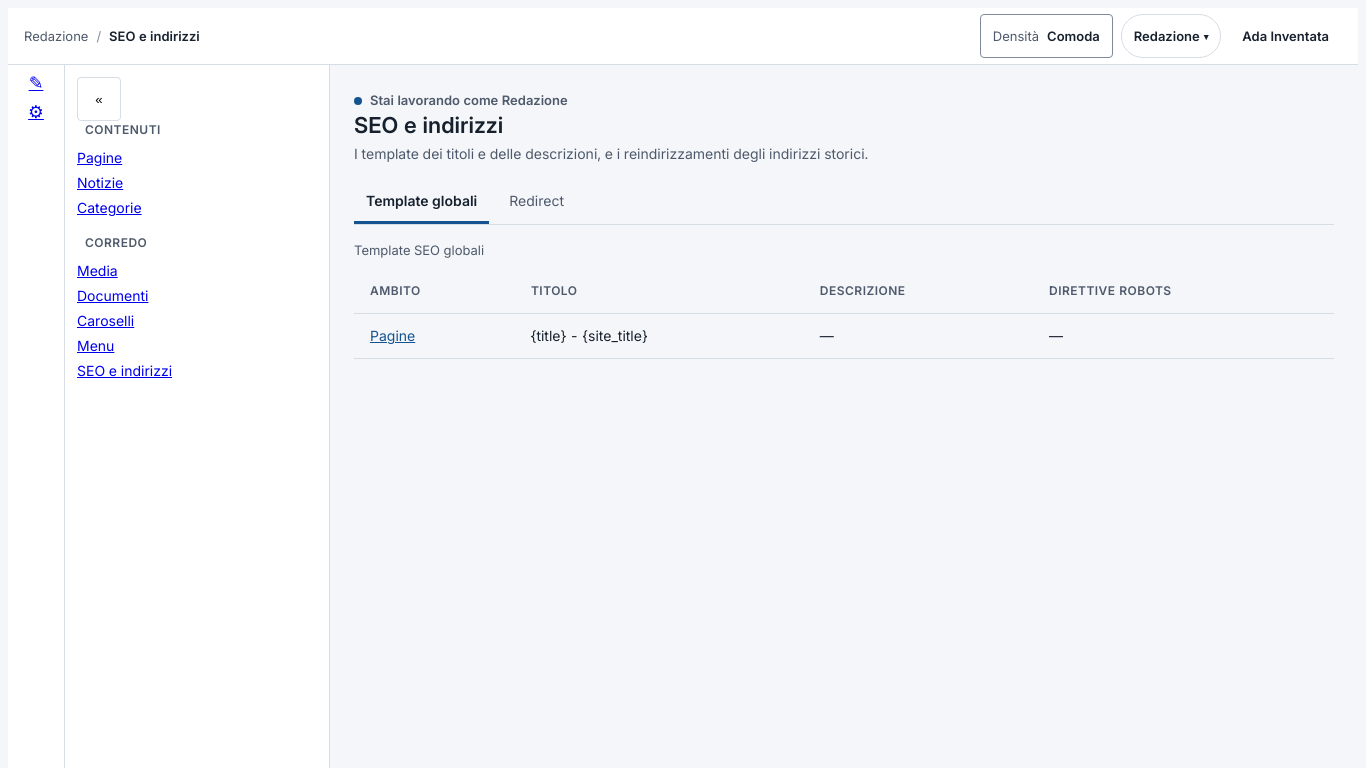
Test case: W8-17: SEO e indirizzi › «Salva il template»: «Modifiche salvate.»
Click the button "Pagine". click: (393, 336)
box: [370,325,415,346]
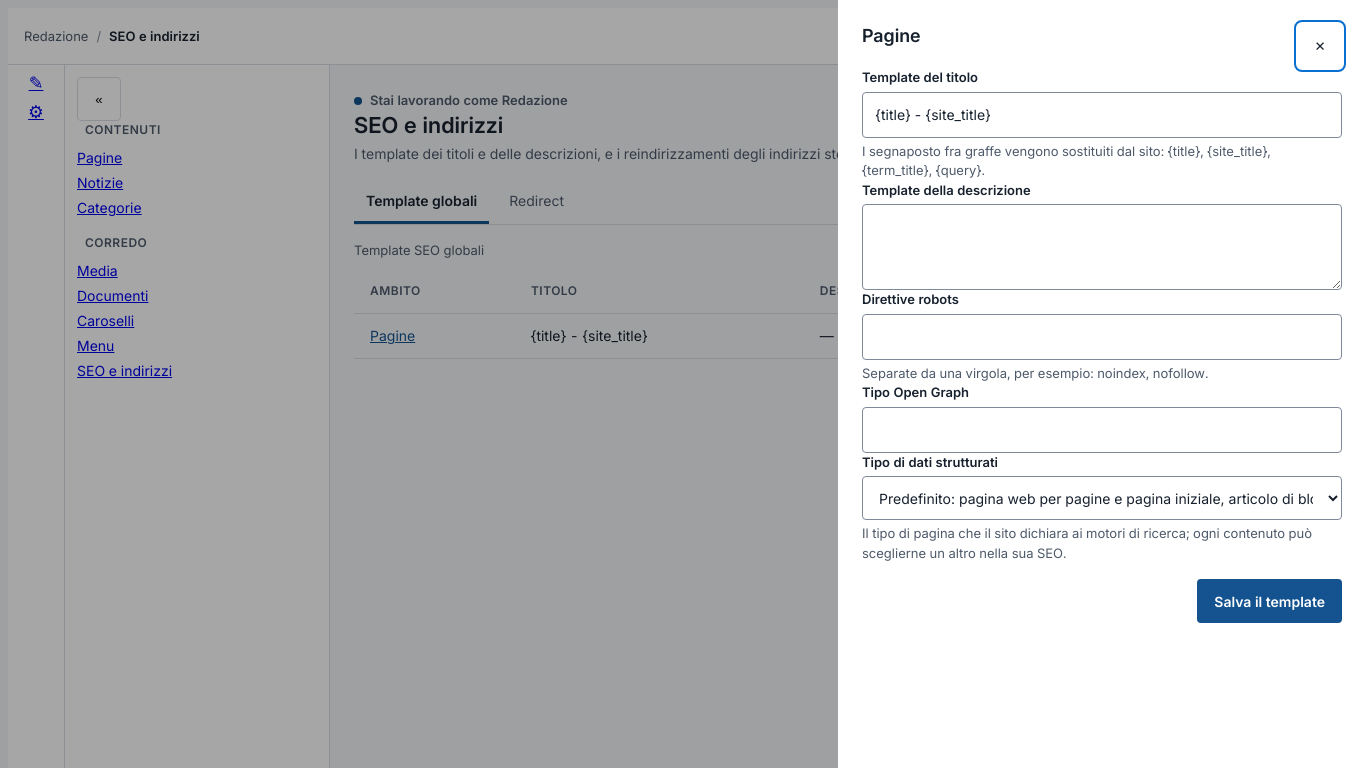
Click the button "Salva il template". click: (1270, 601)
box: [1197,579,1342,623]
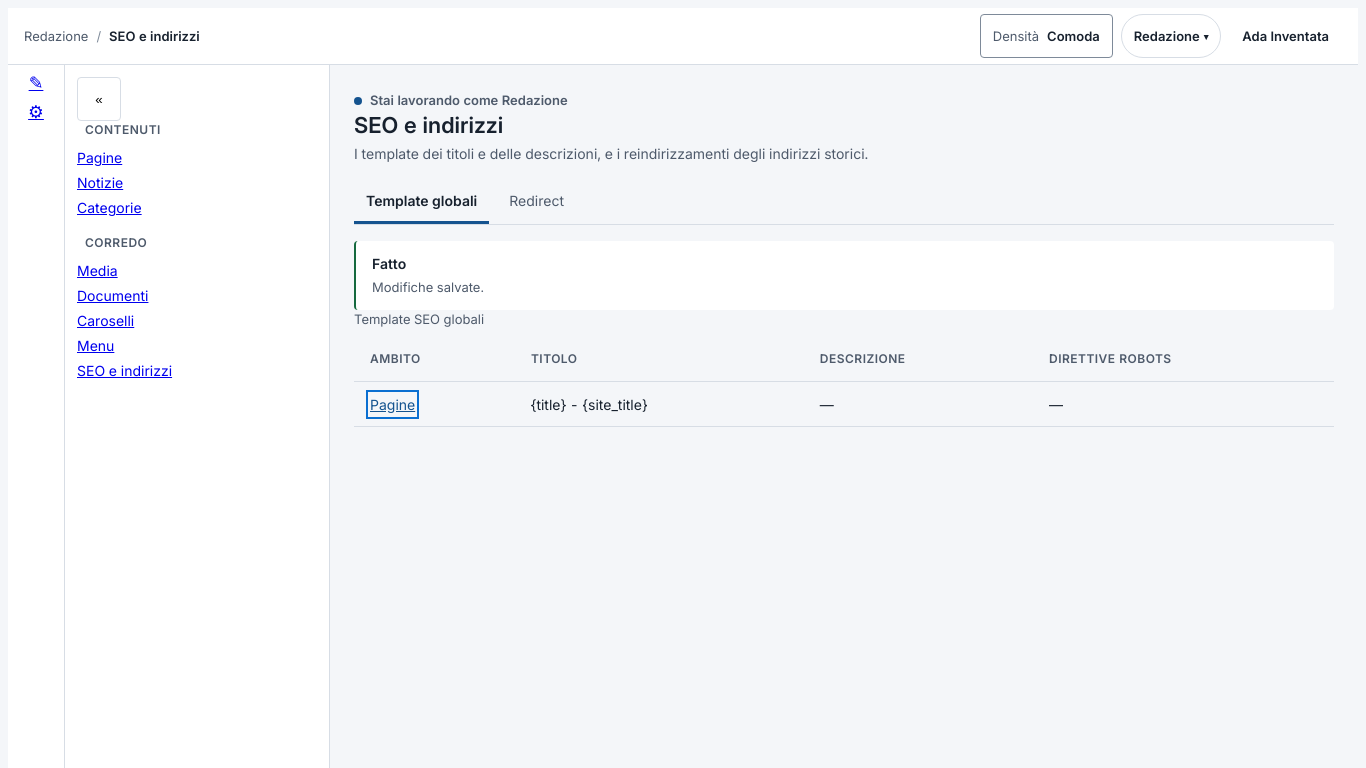
Check: the text "Modifiche salvate." is shown, box [372,279,484,295]
Check: the text "Fatto" is shown, box [372,255,406,272]
